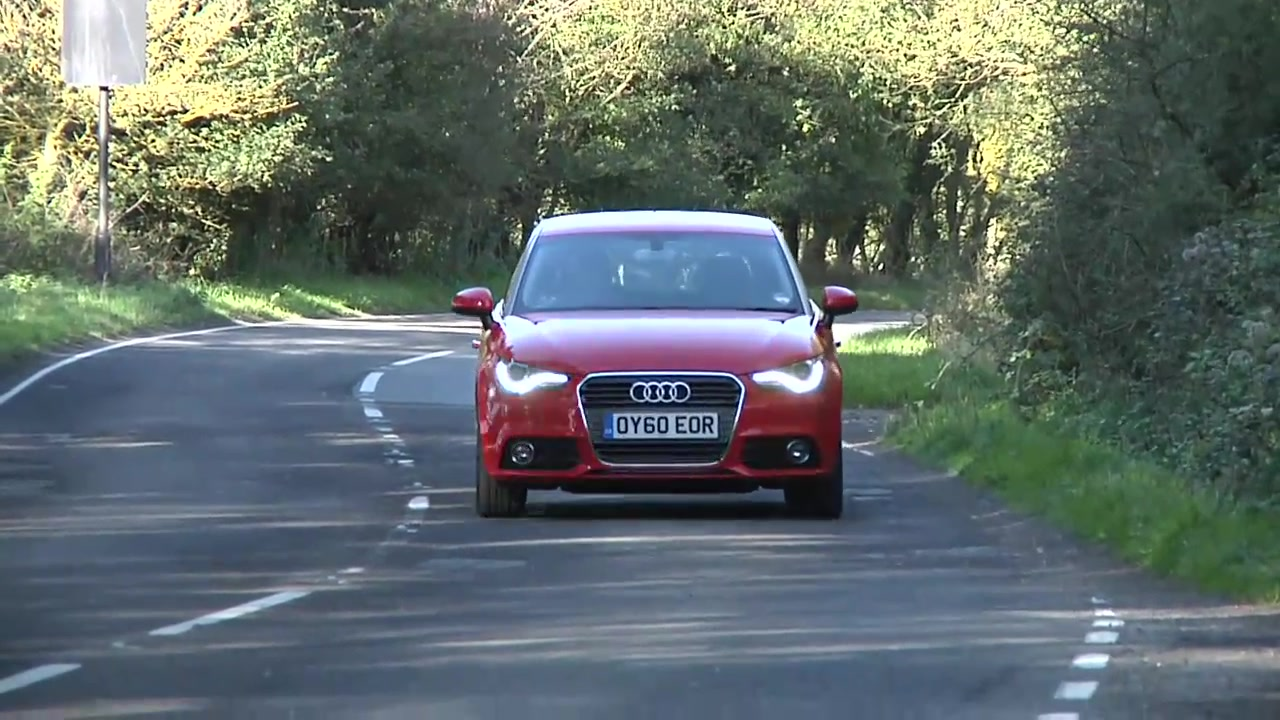car: (450, 210, 866, 521)
